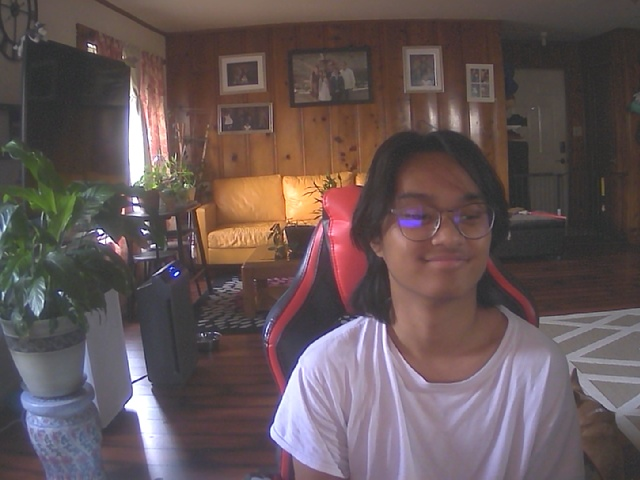happy: (367, 135, 500, 301)
